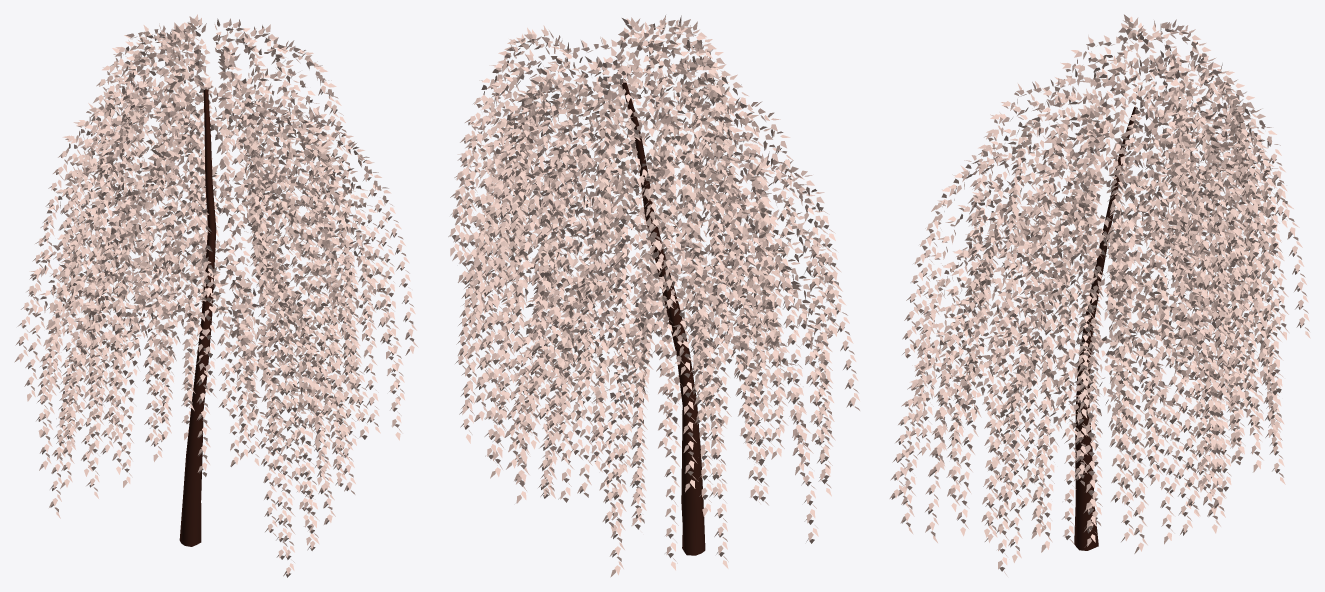
The model's file is tree_low_detail_3.FBX.
3 renders of one model, left to right at view 1: azimuth 30°, elevation 25°; view 2: azimuth 150°, elevation 25°; view 3: azimuth 270°, elevation 25°, orthographic. The views are drawn at different scales.
Parts seen in each view (by area): view 1: Foliage001; view 2: Foliage001; view 3: Foliage001.
Part boxes in pixels (x1=…): Foliage001: x1=14, y1=14, x2=418, y2=577; Foliage001: x1=448, y1=15, x2=859, y2=577; Foliage001: x1=889, y1=14, x2=1310, y2=576.
Size of the model in its own units: 300 by 433 by 312.
